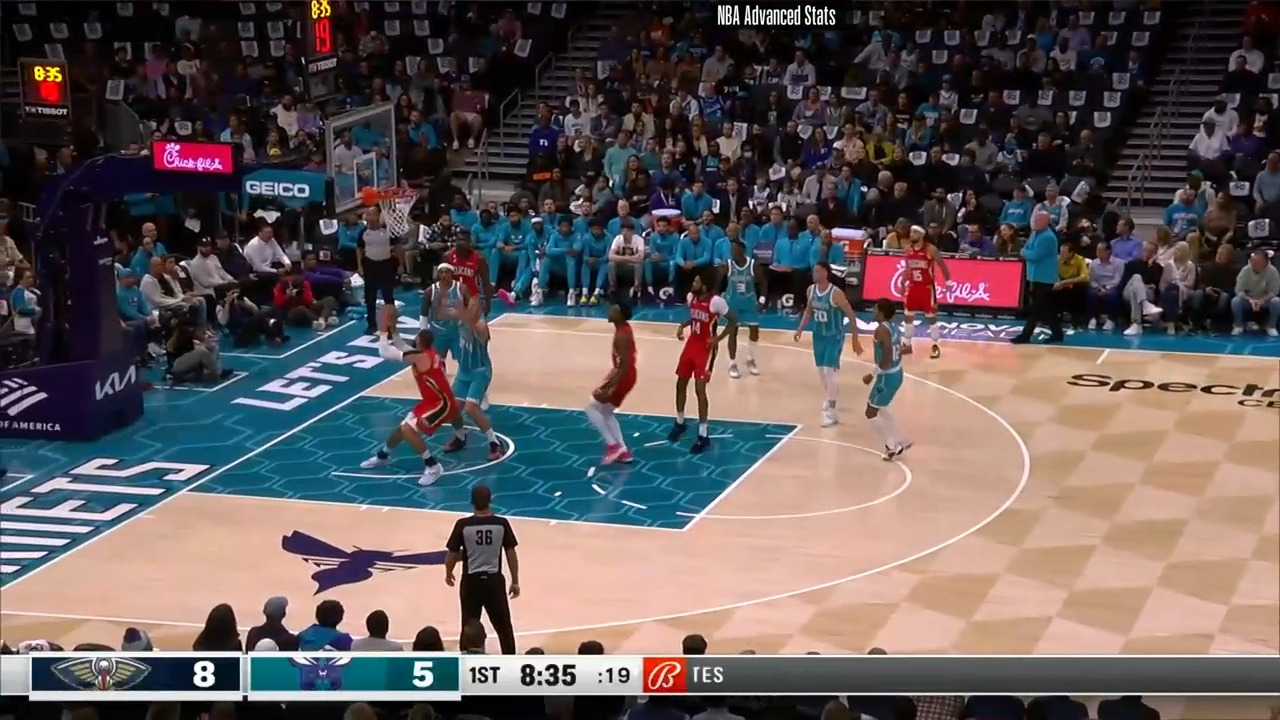net: (356, 181, 415, 232)
player: (367, 324, 465, 484), (434, 288, 507, 465), (796, 262, 870, 431), (671, 274, 734, 446), (854, 299, 917, 470), (582, 302, 644, 467), (896, 222, 955, 364), (713, 233, 763, 380), (416, 259, 466, 374), (444, 226, 493, 318)
referee: (439, 484, 524, 656), (357, 208, 409, 347), (1226, 30, 1279, 138)
